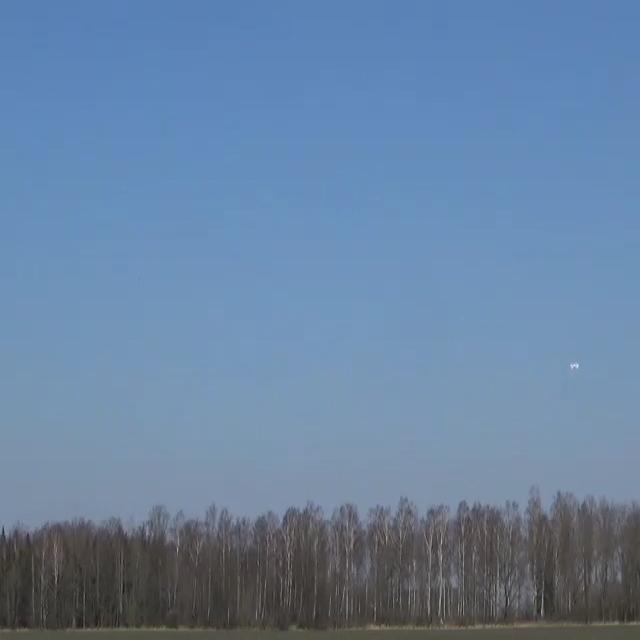drone: (568, 360, 579, 370)
